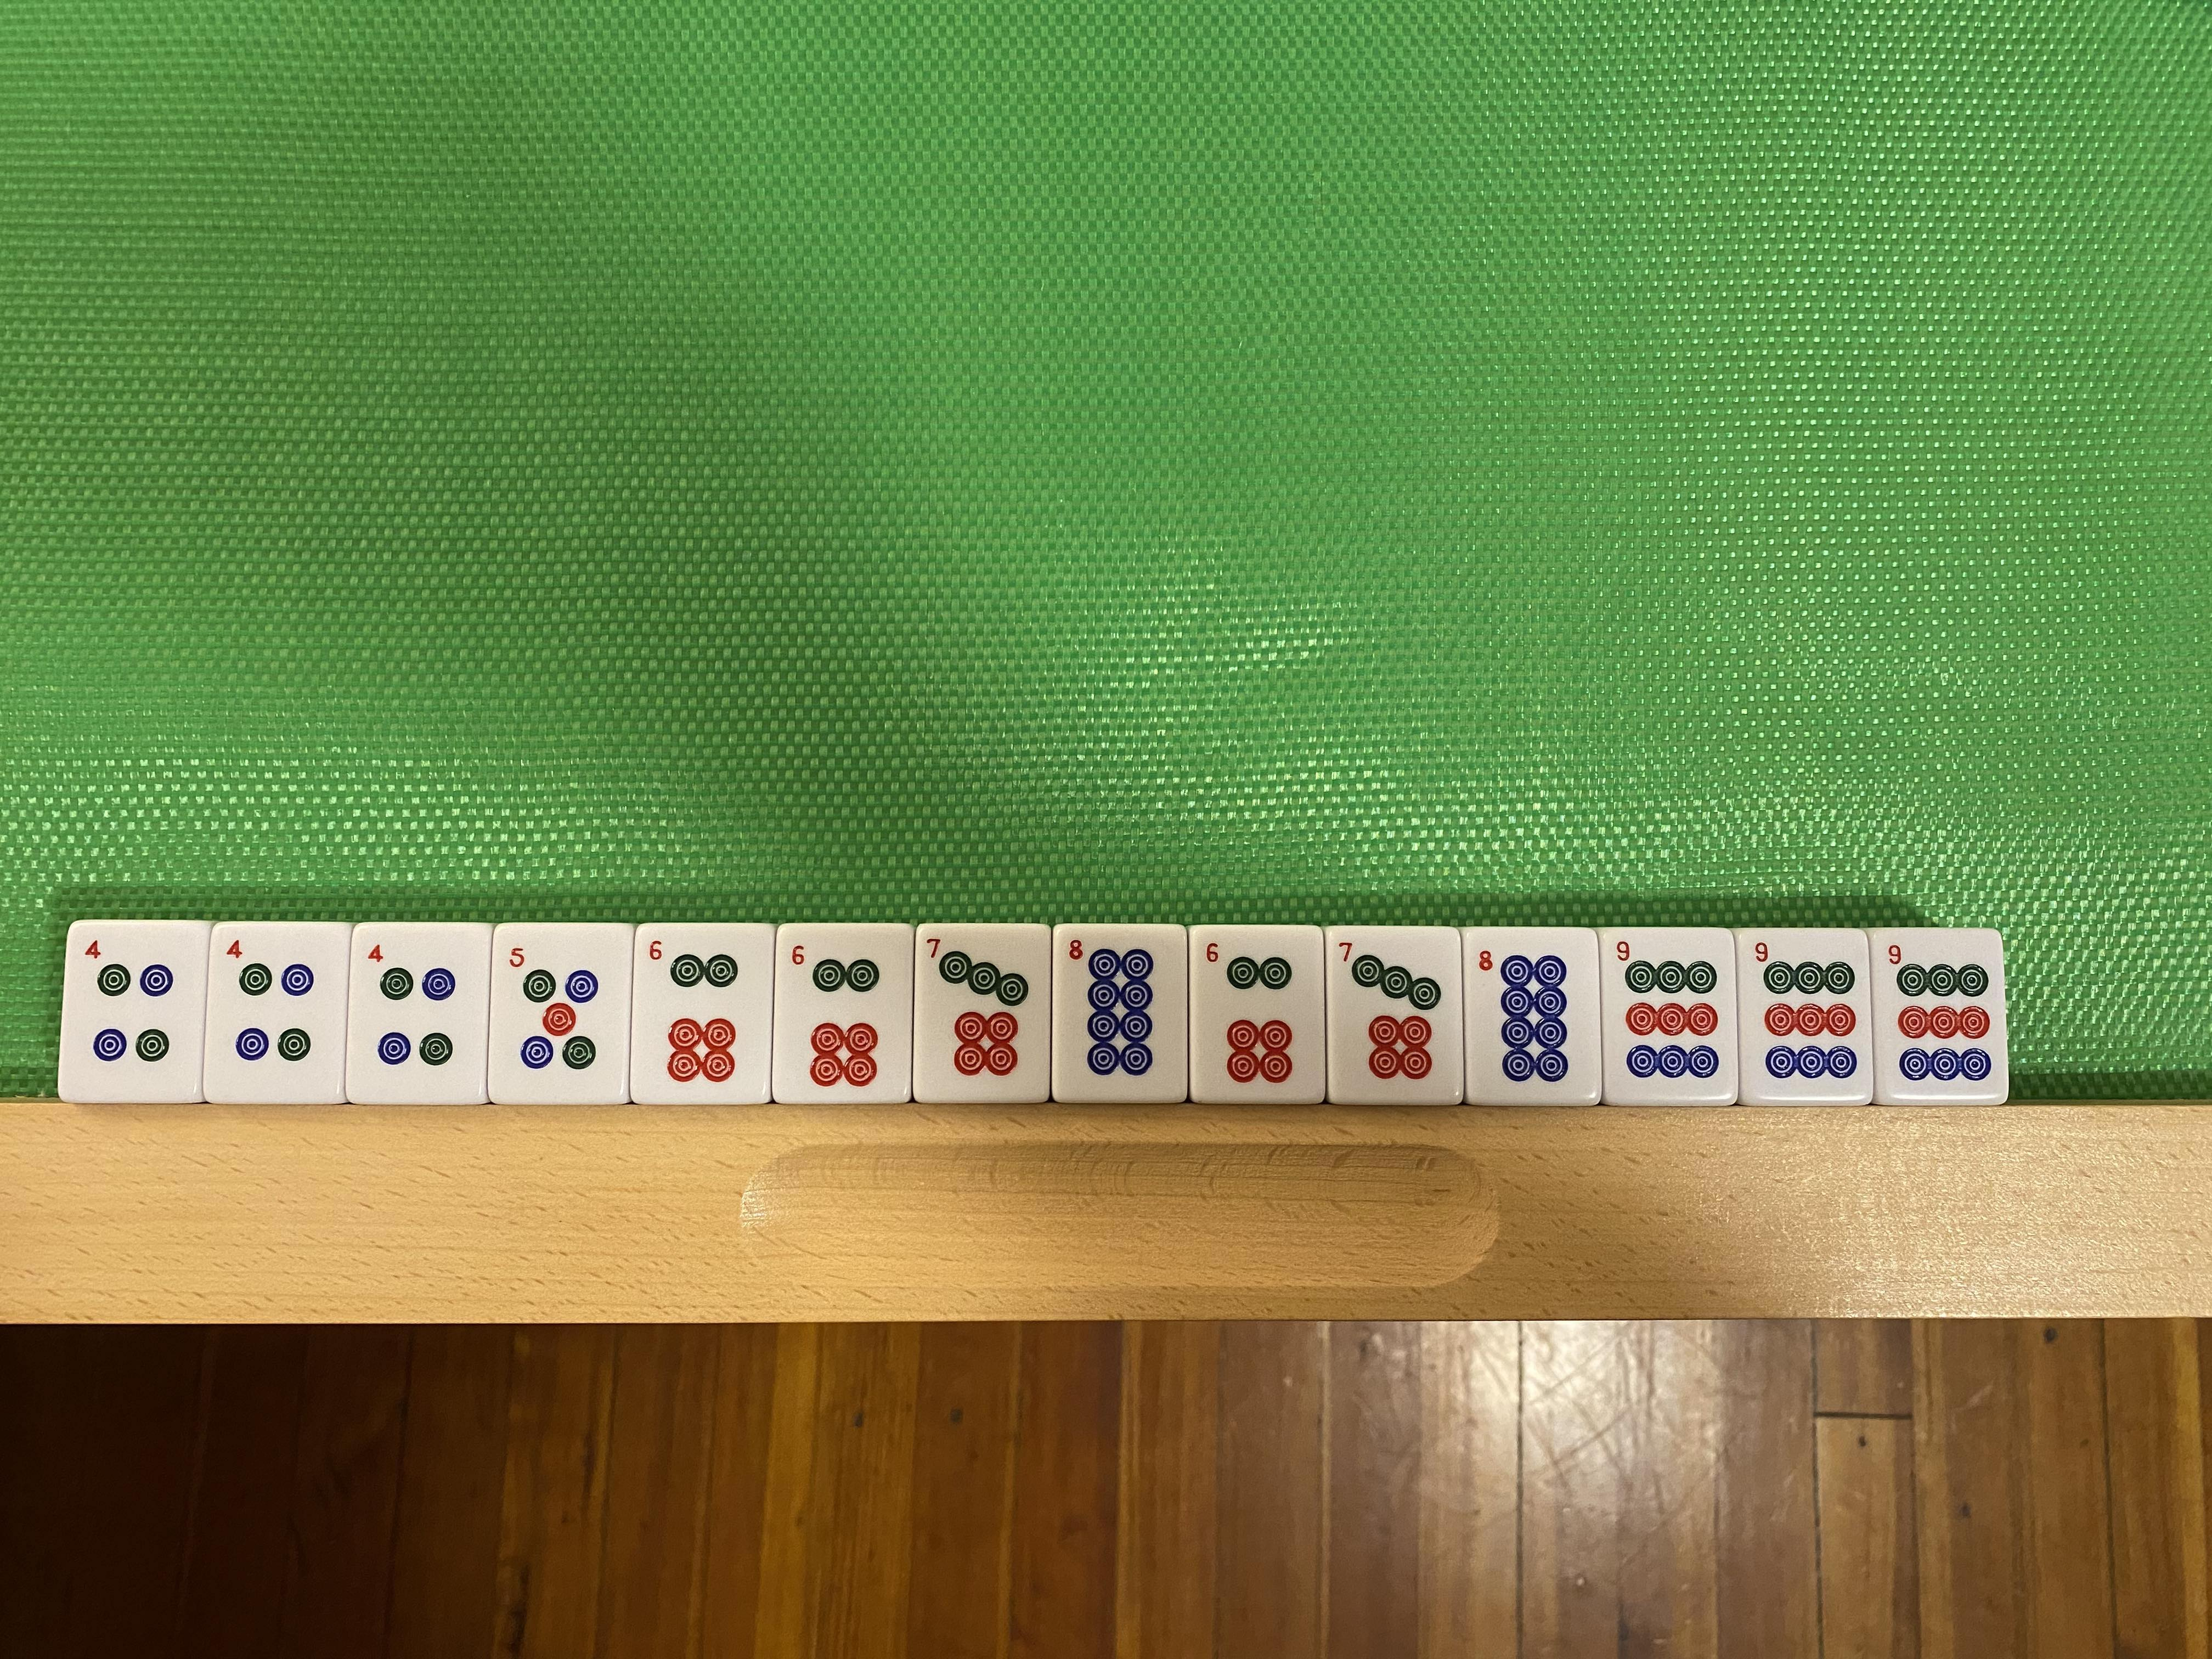circle-eight: (1055, 927, 1186, 1100), (1467, 931, 1597, 1101)
circle-five: (493, 925, 634, 1103)
circle-four: (347, 927, 493, 1105), (207, 924, 350, 1101), (68, 922, 197, 1098)
circle-nine: (1740, 932, 1869, 1101), (1606, 932, 1731, 1101), (1879, 931, 2001, 1103)
circle-seven: (914, 927, 1050, 1101), (1331, 927, 1458, 1101)
circle-six: (777, 925, 913, 1105), (636, 927, 773, 1103), (1193, 927, 1324, 1098)
